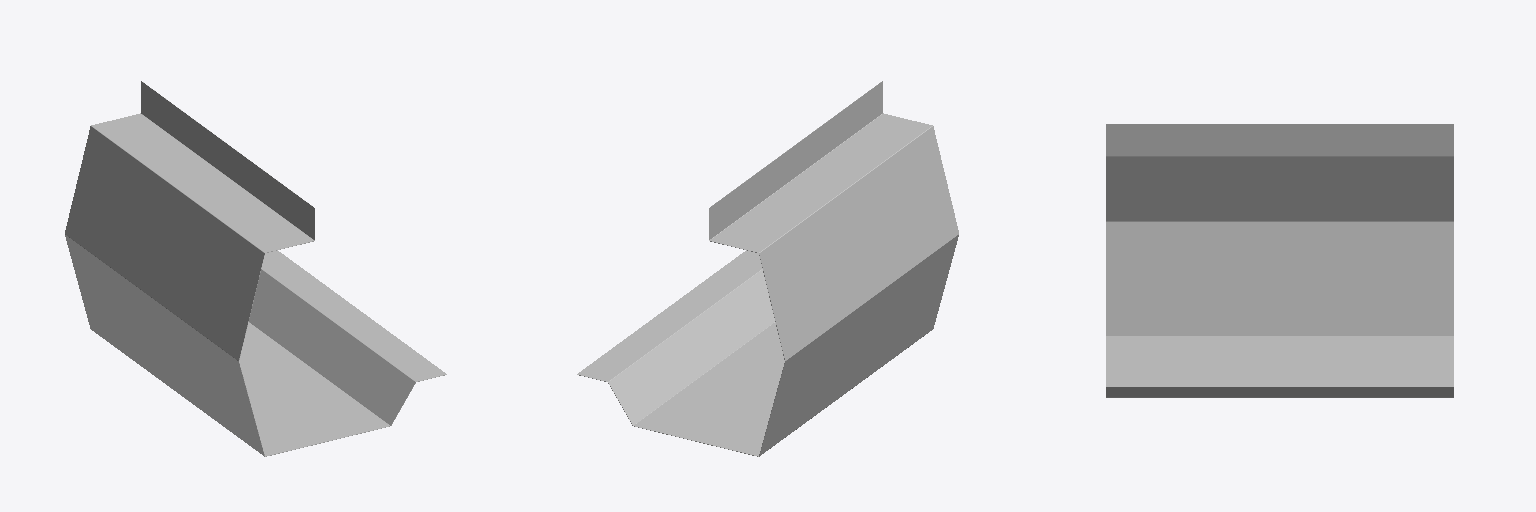
The model's file is RakeTrimRight.obj.
3 renders of one model, left to right at view 1: azimuth 30°, elevation 25°; view 2: azimuth 150°, elevation 25°; view 3: azimuth 270°, elevation 25°, orthographic.
Parts seen in each view (by area): view 1: Raketrim; view 2: Raketrim; view 3: Raketrim.
Part boxes in pixels (left/top/right/bottom): Raketrim: left=65, top=81, right=446, bottom=456; Raketrim: left=577, top=81, right=958, bottom=456; Raketrim: left=1106, top=124, right=1453, bottom=397.
Size of the model in its own units: 1.05 by 1.14 by 1.52.